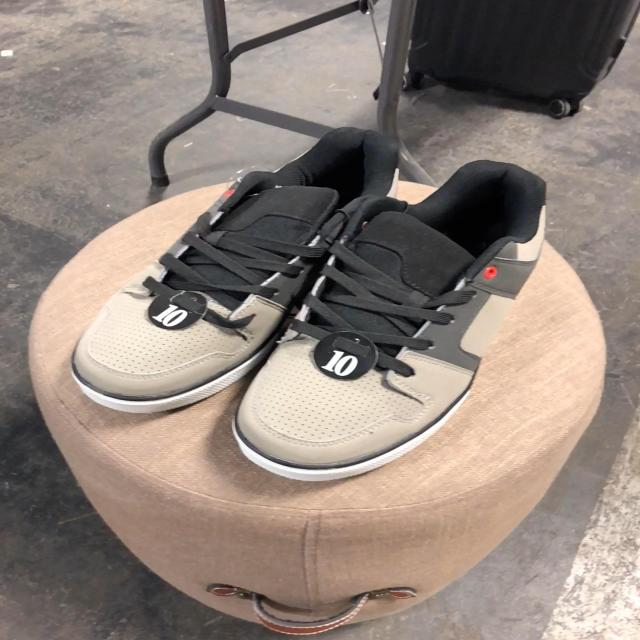shoe: (235, 146, 546, 483), (72, 130, 397, 414)
